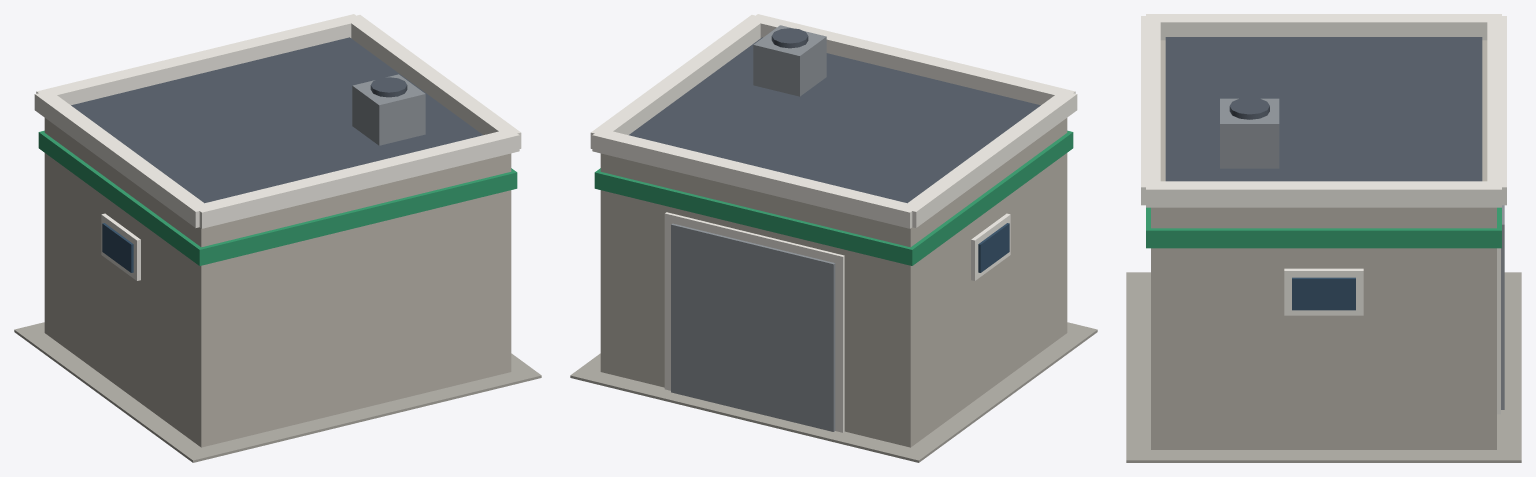
Rendered from annex-garbageTruck.glb.
The picture shows the model from 3 angles, left to right: view 1: azimuth 30°, elevation 25°; view 2: azimuth 150°, elevation 25°; view 3: azimuth 270°, elevation 25°; orthographic projection. The views are drawn at different scales.
Parts seen in each view (by area): view 1: building, roof, parapet (×4), accent_stripe, ground, ac_unit_body, window_glass, window_frame, ac_unit_fan; view 2: building, roof, garage_door, parapet (×4), accent_stripe, ground, garage_door_frame, ac_unit_body, window_glass, window_frame, ac_unit_fan; view 3: building, roof, parapet (×4), ground, accent_stripe, ac_unit_body, window_glass, window_frame, garage_door, ac_unit_fan, garage_door_frame.
Part boxes in pixels (x1,y1,x2,y2): building: [44, 118, 511, 447]; roof: [71, 37, 482, 203]; parapet (×4): [34, 14, 521, 228]; accent_stripe: [38, 130, 517, 265]; ground: [14, 322, 541, 462]; ac_unit_body: [352, 74, 425, 145]; window_glass: [102, 223, 133, 272]; window_frame: [101, 213, 140, 280]; ac_unit_fan: [370, 77, 407, 97]; building: [600, 118, 1067, 447]; roof: [629, 37, 1040, 203]; garage_door: [671, 223, 835, 431]; parapet (×4): [590, 14, 1077, 228]; accent_stripe: [594, 130, 1073, 265]; ground: [570, 322, 1097, 462]; garage_door_frame: [664, 212, 844, 432]; ac_unit_body: [753, 25, 826, 96]; window_glass: [978, 223, 1009, 272]; window_frame: [971, 213, 1010, 280]; ac_unit_fan: [771, 28, 808, 48]; building: [1151, 40, 1496, 449]; roof: [1165, 37, 1482, 181]; parapet (×4): [1141, 14, 1506, 207]; ground: [1126, 272, 1521, 462]; accent_stripe: [1146, 207, 1501, 248]; ac_unit_body: [1220, 98, 1279, 168]; window_glass: [1292, 277, 1355, 310]; window_frame: [1284, 268, 1363, 315]; garage_door: [1501, 205, 1504, 409]; ac_unit_fan: [1229, 97, 1269, 119]; garage_door_frame: [1497, 248, 1500, 414].
Size of the model in its own units: 9 by 6.8 by 8.
